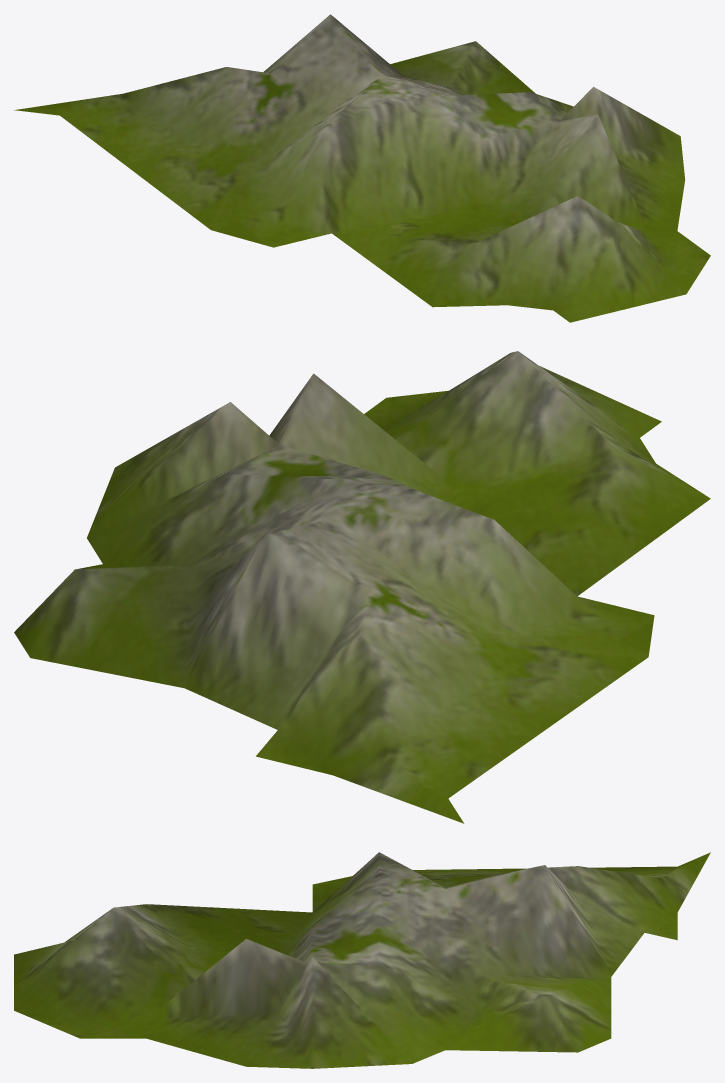
Rendered from Terrain_03.fbx.
The picture shows the model from 3 angles, top to bottom: view 1: azimuth 30°, elevation 25°; view 2: azimuth 150°, elevation 25°; view 3: azimuth 270°, elevation 25°; orthographic projection. The views are drawn at different scales.
Visible parts, largest first — view 1: Terrain_03; view 2: Terrain_03; view 3: Terrain_03.
Boxes of the visible parts, bbox=[...] form: Terrain_03: bbox=[14, 14, 710, 322]; Terrain_03: bbox=[14, 351, 710, 823]; Terrain_03: bbox=[14, 852, 710, 1068].
Size of the model in its own units: 12.93 by 2.78 by 16.97.
